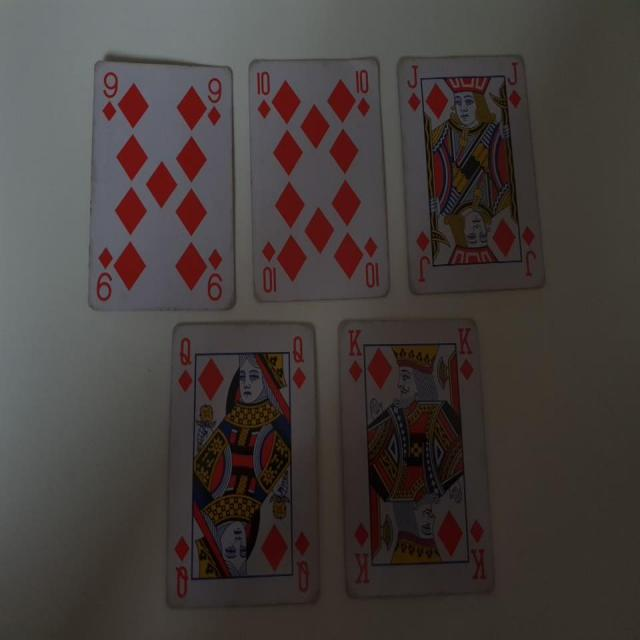10 Diamonds: (247, 52, 393, 305)
9 Diamonds: (82, 58, 235, 314)
J Diamonds: (396, 53, 550, 296)
K Diamonds: (337, 317, 498, 599)
Q Diamonds: (164, 317, 325, 610)
